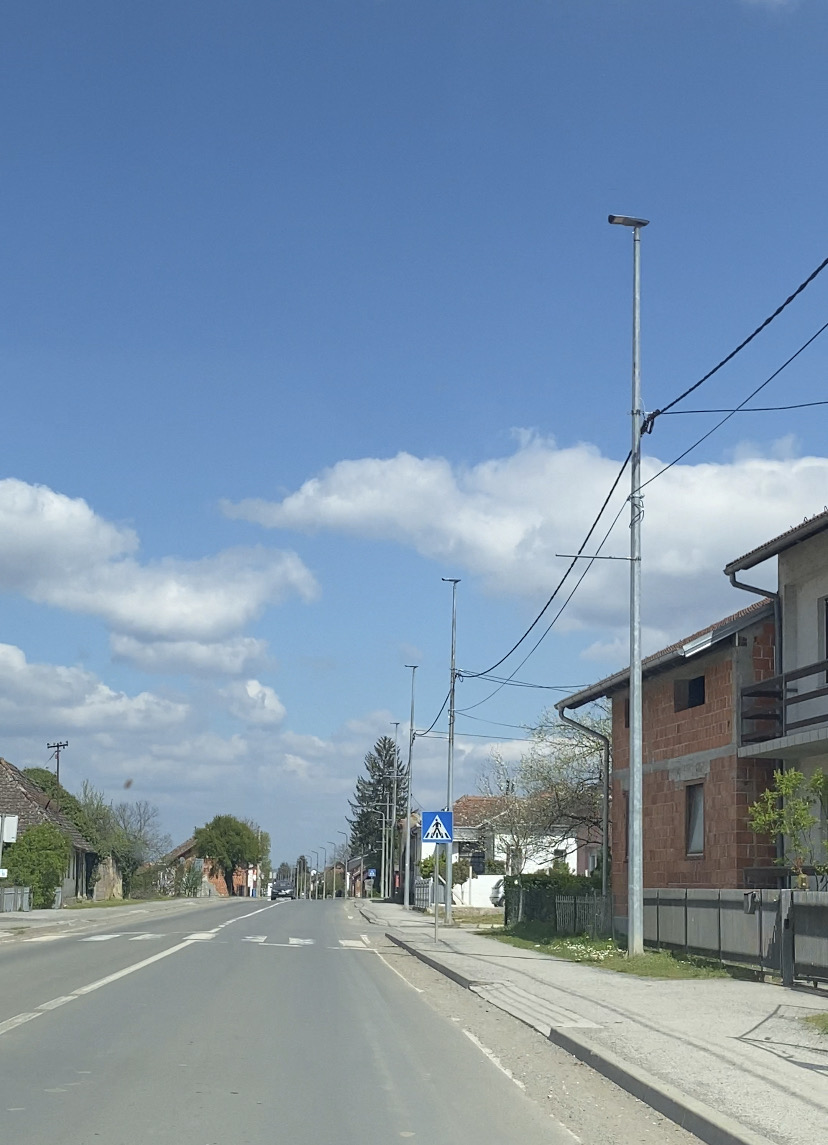Pješački prijelaz: (421, 811, 453, 843)
